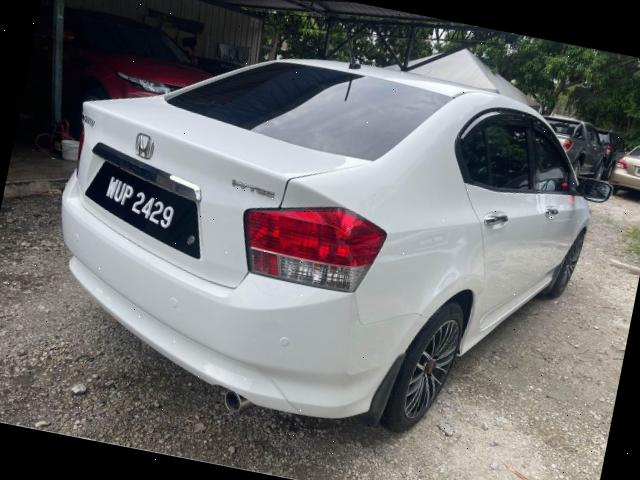License_Plate: (88, 165, 191, 241)
